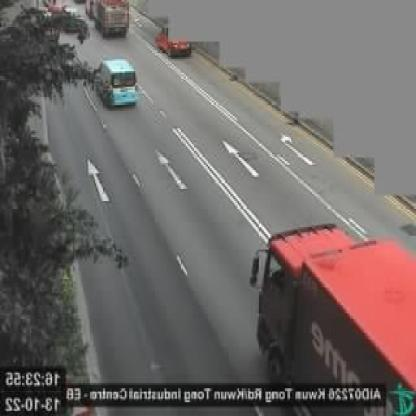Car: (259, 230, 416, 393), (97, 56, 139, 108)
Truck: (83, 0, 130, 38)
